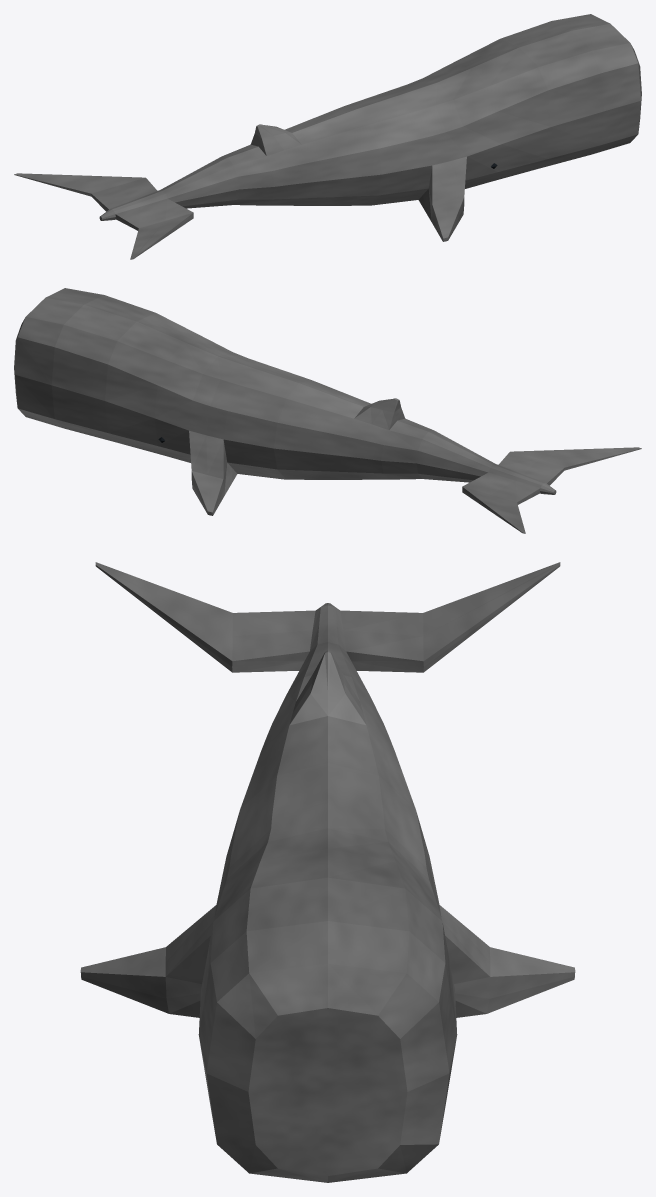
The model's file is Cachalote2.fbx.
3 views of the same model, one above another, from view 1: azimuth 30°, elevation 25°; view 2: azimuth 150°, elevation 25°; view 3: azimuth 270°, elevation 25° (orthographic). The views are drawn at different scales.
Visible parts, largest first — view 1: Cachalote2; view 2: Cachalote2; view 3: Cachalote2.
Boxes of the visible parts, box(x1,y1,x2,y2) form: Cachalote2: box(14, 14, 641, 259); Cachalote2: box(14, 288, 641, 533); Cachalote2: box(80, 562, 575, 1182).
Size of the model in its own units: 11 by 2.4 by 4.28.
Materials: 2 (1 with a texture image).
